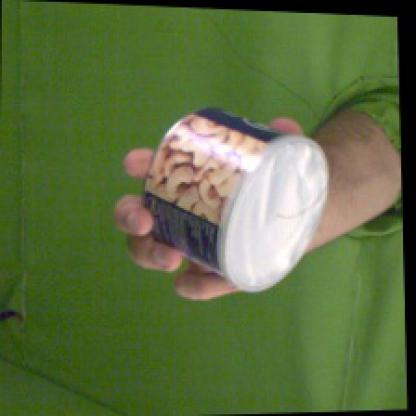Hand: (113, 118, 304, 302)
